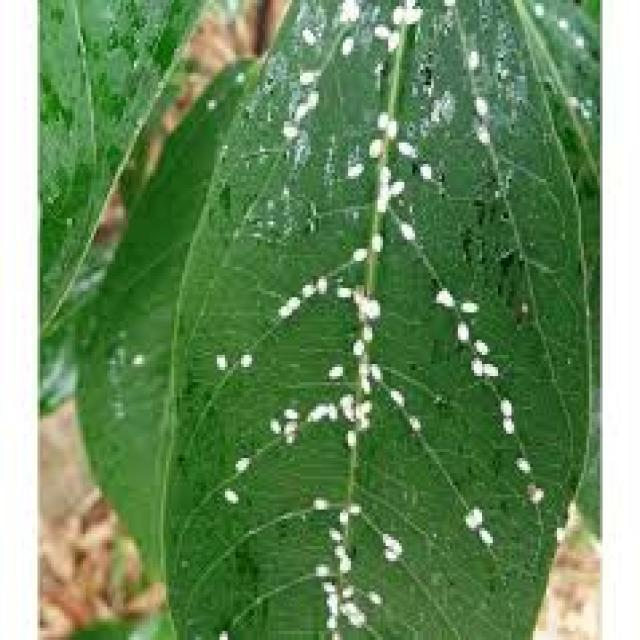scale_insect: (466, 112, 493, 152), (273, 112, 303, 146), (391, 127, 418, 164), (466, 85, 495, 118), (375, 525, 404, 558), (286, 88, 310, 127), (409, 152, 436, 185), (332, 24, 356, 61), (294, 18, 322, 49), (492, 409, 520, 440), (217, 479, 244, 510), (458, 39, 482, 73), (359, 127, 383, 161), (383, 379, 407, 413), (292, 58, 319, 88), (340, 149, 364, 182), (378, 106, 399, 143), (393, 215, 418, 246), (329, 385, 356, 413), (463, 349, 488, 379), (380, 21, 402, 55), (493, 388, 517, 419), (302, 394, 326, 425), (380, 173, 407, 200), (471, 522, 498, 549), (335, 394, 356, 428), (364, 224, 386, 255), (511, 291, 533, 322), (522, 479, 546, 507), (456, 506, 480, 534), (372, 155, 394, 185), (450, 312, 471, 343), (319, 394, 340, 425), (466, 331, 490, 358), (474, 355, 501, 379), (509, 449, 533, 476), (322, 355, 346, 382), (300, 79, 321, 109), (370, 182, 391, 212), (262, 409, 284, 437), (370, 100, 388, 134), (329, 279, 354, 303), (276, 412, 300, 437), (362, 582, 386, 607), (306, 488, 330, 513), (428, 279, 450, 306), (345, 331, 367, 358), (332, 549, 354, 576), (364, 291, 383, 322), (466, 497, 485, 528), (346, 240, 370, 264), (228, 449, 252, 473), (322, 519, 346, 543), (364, 355, 383, 385), (340, 422, 359, 452), (295, 273, 316, 300), (233, 343, 254, 370), (270, 297, 292, 322), (278, 400, 300, 425), (311, 267, 329, 297), (356, 315, 375, 343), (456, 294, 480, 316), (367, 15, 388, 40), (402, 409, 423, 434), (316, 573, 337, 598), (335, 579, 356, 604), (385, 0, 404, 27), (327, 537, 348, 561), (209, 346, 227, 373), (281, 288, 300, 313), (562, 85, 581, 109), (343, 494, 361, 519), (568, 27, 586, 52), (126, 346, 144, 370), (354, 370, 372, 394), (378, 540, 396, 564), (308, 558, 332, 576), (552, 9, 570, 33), (439, 292, 458, 312), (279, 428, 297, 449), (528, 0, 546, 21), (354, 355, 369, 379), (209, 622, 233, 637), (230, 64, 247, 85), (201, 91, 217, 112), (319, 610, 337, 628), (324, 625, 343, 637), (436, 0, 458, 9)
